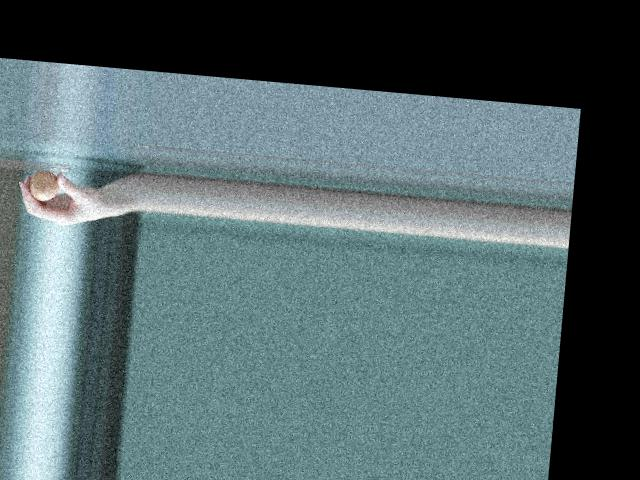egg: (27, 168, 60, 202)
